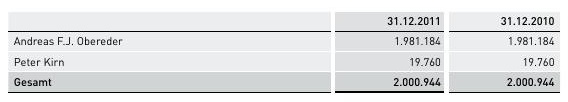table: (0, 0, 568, 102)
